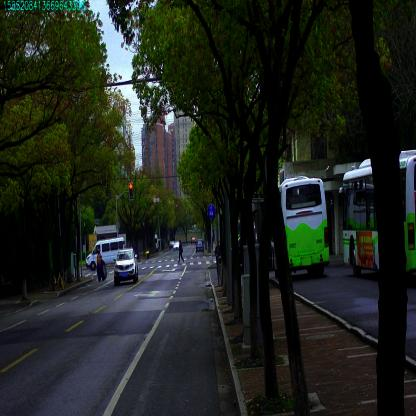traffic-light: (129, 183, 133, 199)
